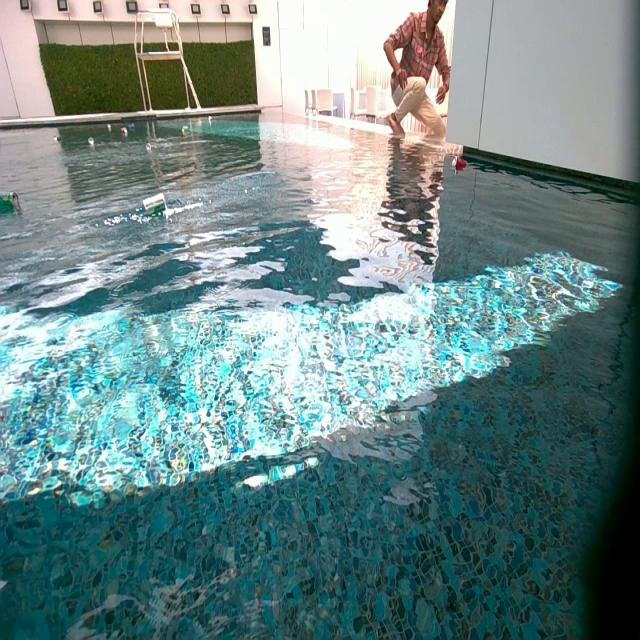Cans: (142, 192, 167, 216), (1, 193, 17, 213), (453, 156, 468, 172), (129, 122, 137, 131), (182, 126, 189, 136), (146, 143, 152, 153), (121, 129, 128, 137), (90, 138, 96, 146), (208, 115, 214, 123), (107, 126, 113, 134), (56, 134, 62, 141)
